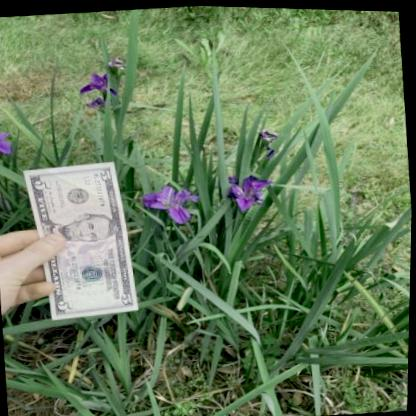five-front: (24, 161, 140, 321)
